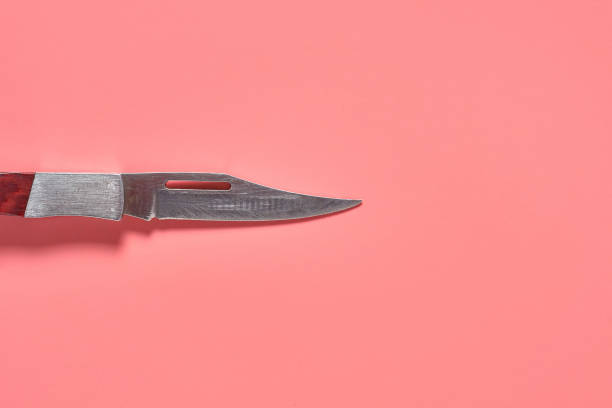knife: (0, 169, 364, 225)
